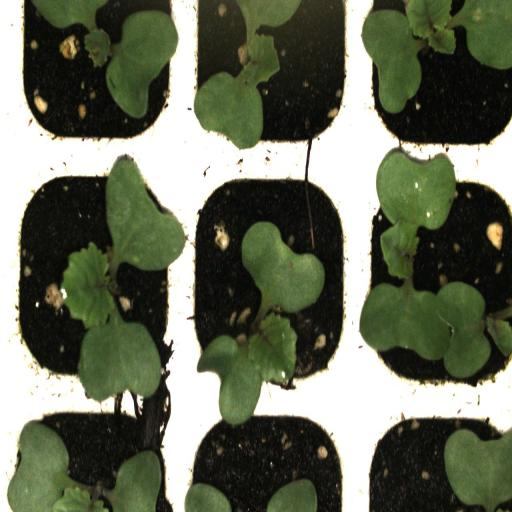seedling: (7, 158, 181, 403), (182, 164, 360, 400), (6, 0, 186, 157), (185, 1, 360, 160), (360, 0, 512, 158)
twoseedling: (360, 160, 512, 396)
